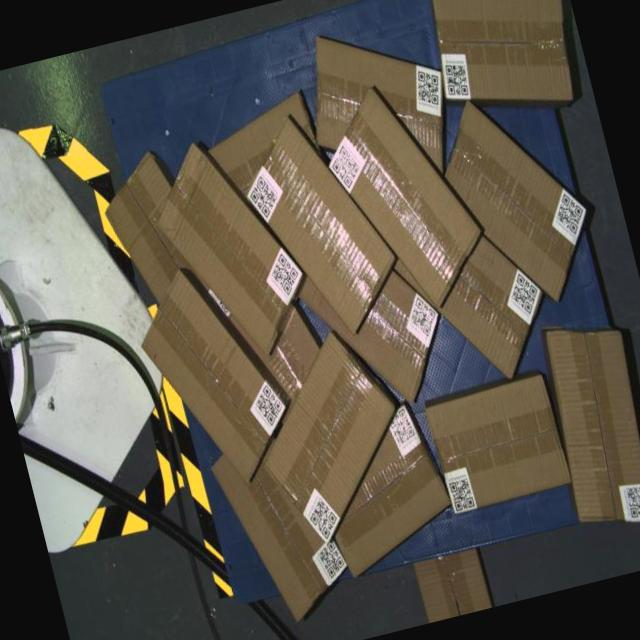box: (313, 68, 497, 326), (229, 96, 412, 352), (140, 123, 320, 375), (234, 319, 423, 555), (425, 77, 607, 322), (124, 251, 302, 500), (533, 313, 640, 538), (417, 0, 586, 129), (423, 373, 572, 515)
